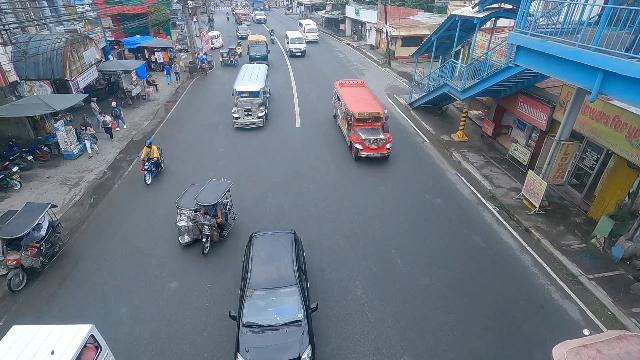car: (233, 226, 315, 360), (236, 25, 252, 40), (253, 10, 267, 24)
jeepney: (332, 78, 392, 163), (231, 65, 271, 130), (233, 8, 251, 25)
motorcycle: (140, 139, 164, 187), (236, 39, 243, 57), (270, 29, 276, 44), (208, 17, 214, 30), (267, 2, 272, 11), (226, 12, 230, 20)
truck: (246, 34, 270, 63)
van: (284, 30, 307, 58), (298, 18, 322, 43)
